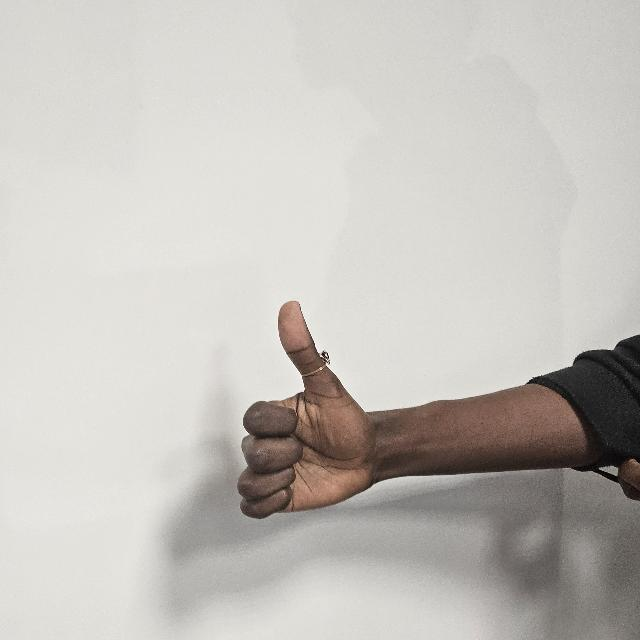Start: (233, 292, 407, 554)
